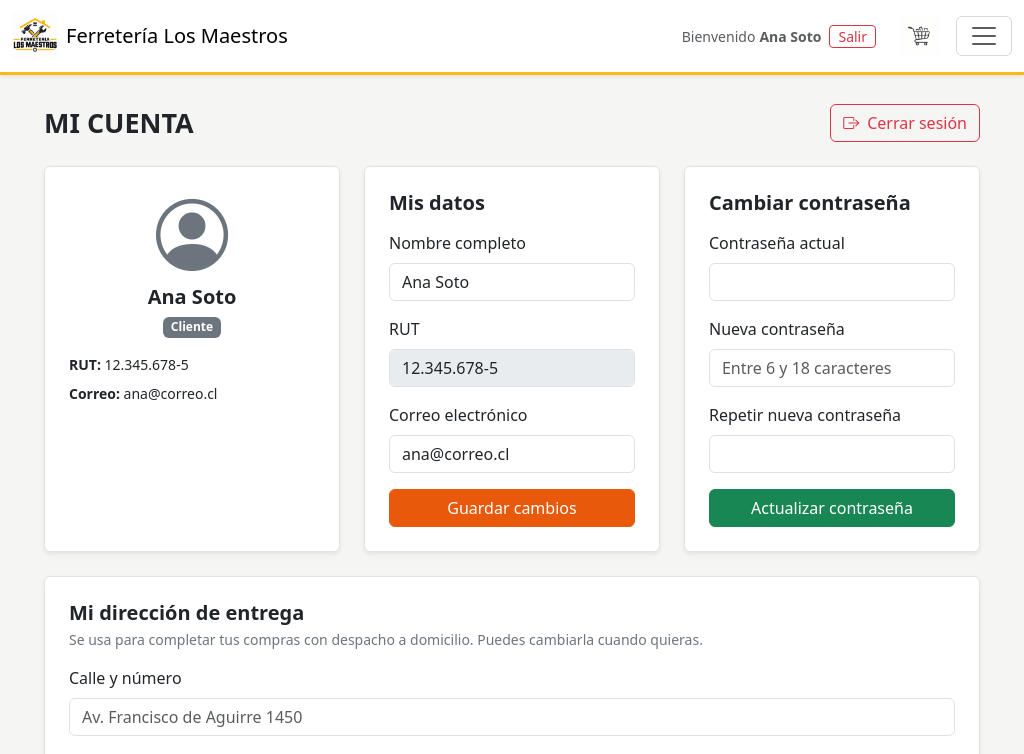
Scenario: Mi cuenta › valida y guarda los datos nuevos (sesión y lista de usuarios)
Replace the text in the field labelled "Nombre completo" with "An" at [512, 282], box [389, 263, 635, 301]
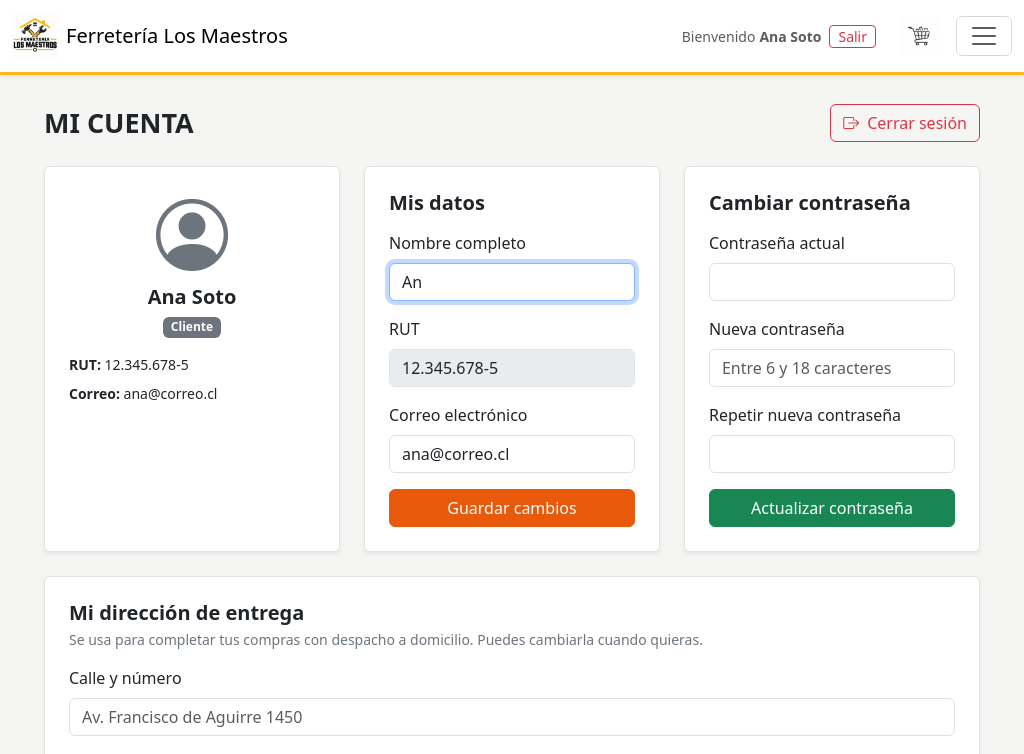
Click the button "Guardar cambios" at [512, 508], box [389, 489, 635, 527]
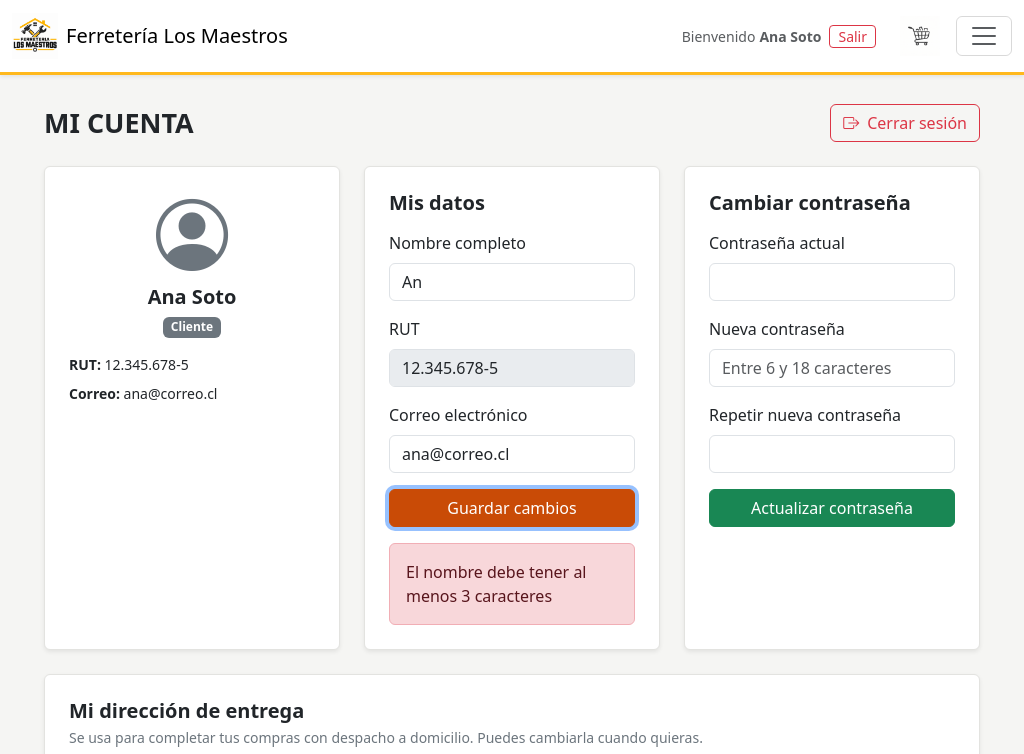
Result: the message shows "al menos 3 caracteres" at [406, 561, 586, 607]
Replace the text in the field labelled "Nombre completo" with "Ana María Soto" at [512, 282], box [389, 263, 635, 301]
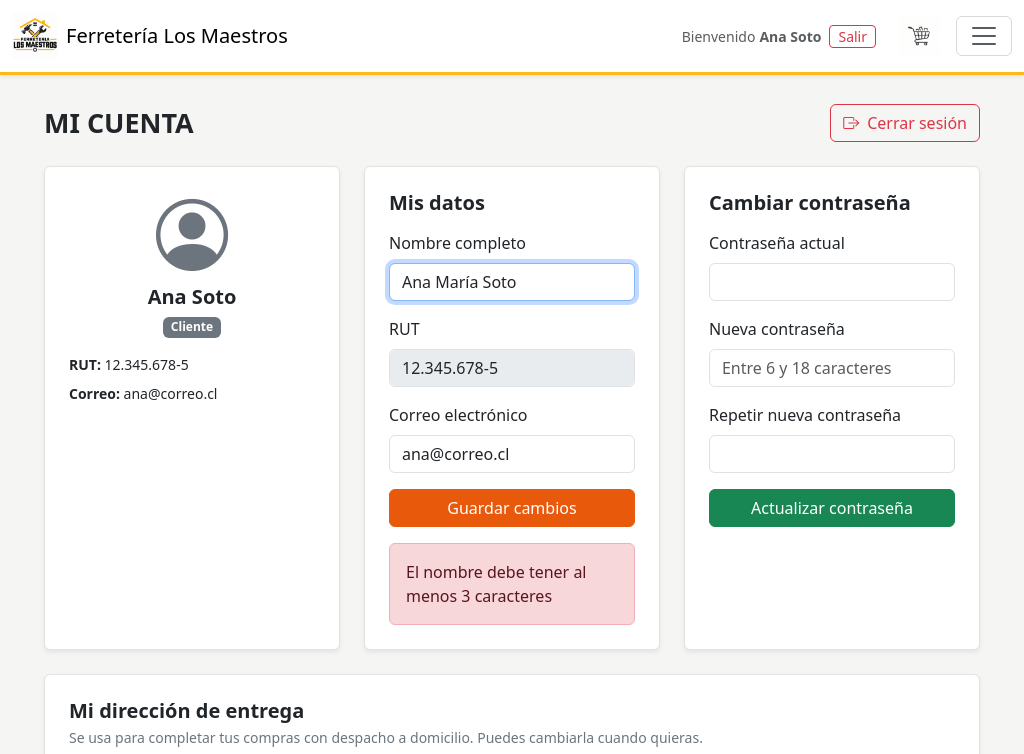
Click the button "Guardar cambios" at [512, 508], box [389, 489, 635, 527]
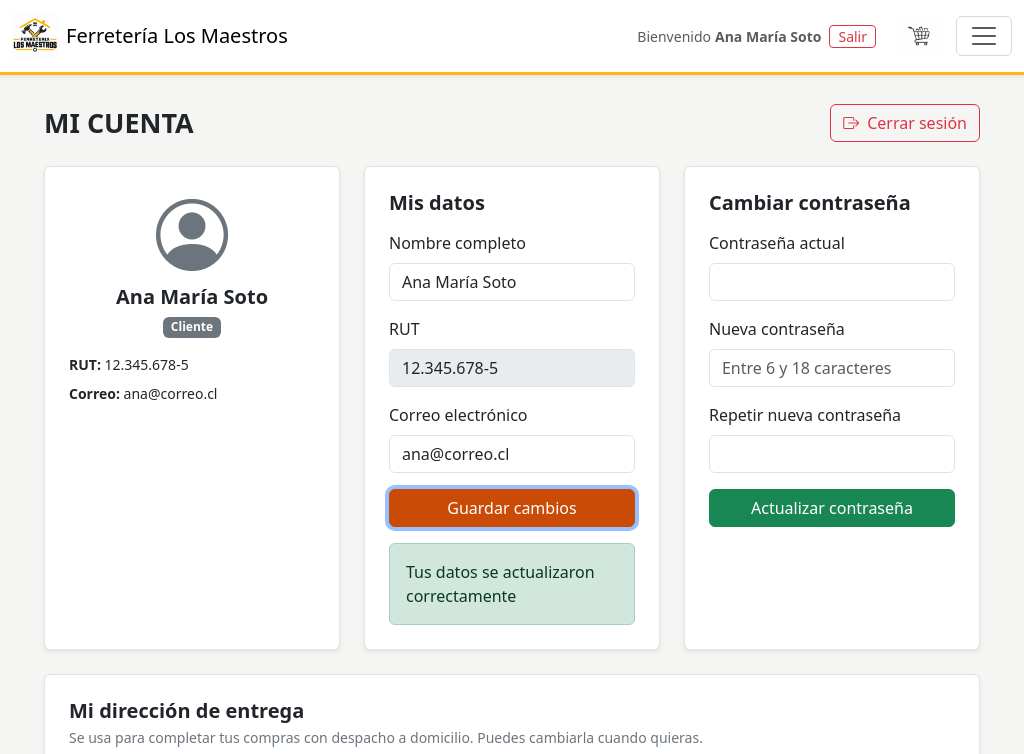
Result: the message shows "se actualizaron correctamente" at [406, 561, 595, 607]
Result: the text "Ana María Soto" is shown at [715, 26, 822, 46]
